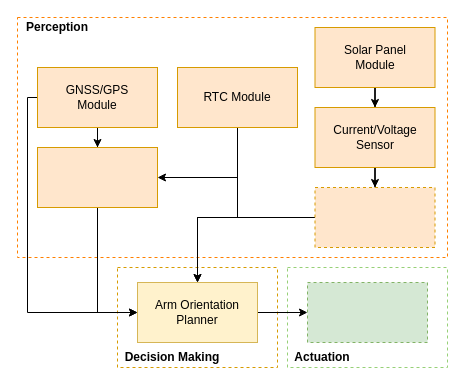
The diagram is 465 pixels wide and 385 high, and some of its shapes have lost their labels. The centre of each missing label's shape, as x and y in pixels:
5-DOF Arm Driver Node: (x=367, y=312)
Shadow Ratio Node: (x=374, y=217)
Solar Geometry Node: (x=97, y=177)
